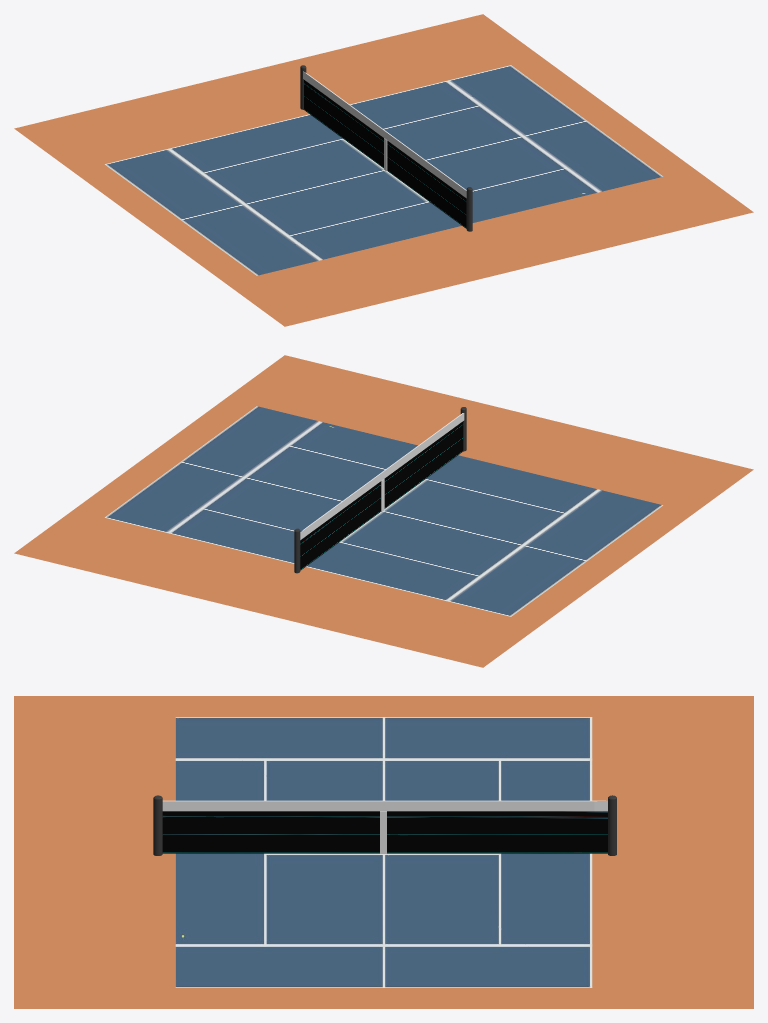
The model's file is tenis_prototipo 1.fbx.
3 renders of one model, top to bottom at view 1: azimuth 30°, elevation 25°; view 2: azimuth 150°, elevation 25°; view 3: azimuth 270°, elevation 25°, orthographic. The views are drawn at different scales.
Parts seen in each view (by area): view 1: orange, court, red, top red; view 2: orange, court, red, top red; view 3: orange, court, red, top red, post, post.002.
Boxes of the visible parts, x1=… form: orange: x1=14, y1=14, x2=753, y2=326; court: x1=105, y1=65, x2=662, y2=275; red: x1=304, y1=80, x2=466, y2=228; top red: x1=303, y1=71, x2=466, y2=198; orange: x1=14, y1=355, x2=753, y2=667; court: x1=105, y1=406, x2=662, y2=616; red: x1=300, y1=421, x2=463, y2=570; top red: x1=300, y1=413, x2=464, y2=539; orange: x1=14, y1=696, x2=753, y2=1008; court: x1=175, y1=717, x2=592, y2=987; red: x1=162, y1=811, x2=607, y2=853; top red: x1=162, y1=800, x2=607, y2=811; post: x1=153, y1=795, x2=162, y2=855; post.002: x1=608, y1=795, x2=616, y2=855.
Size of the model in its own units: 1414 by 126 by 1414.
